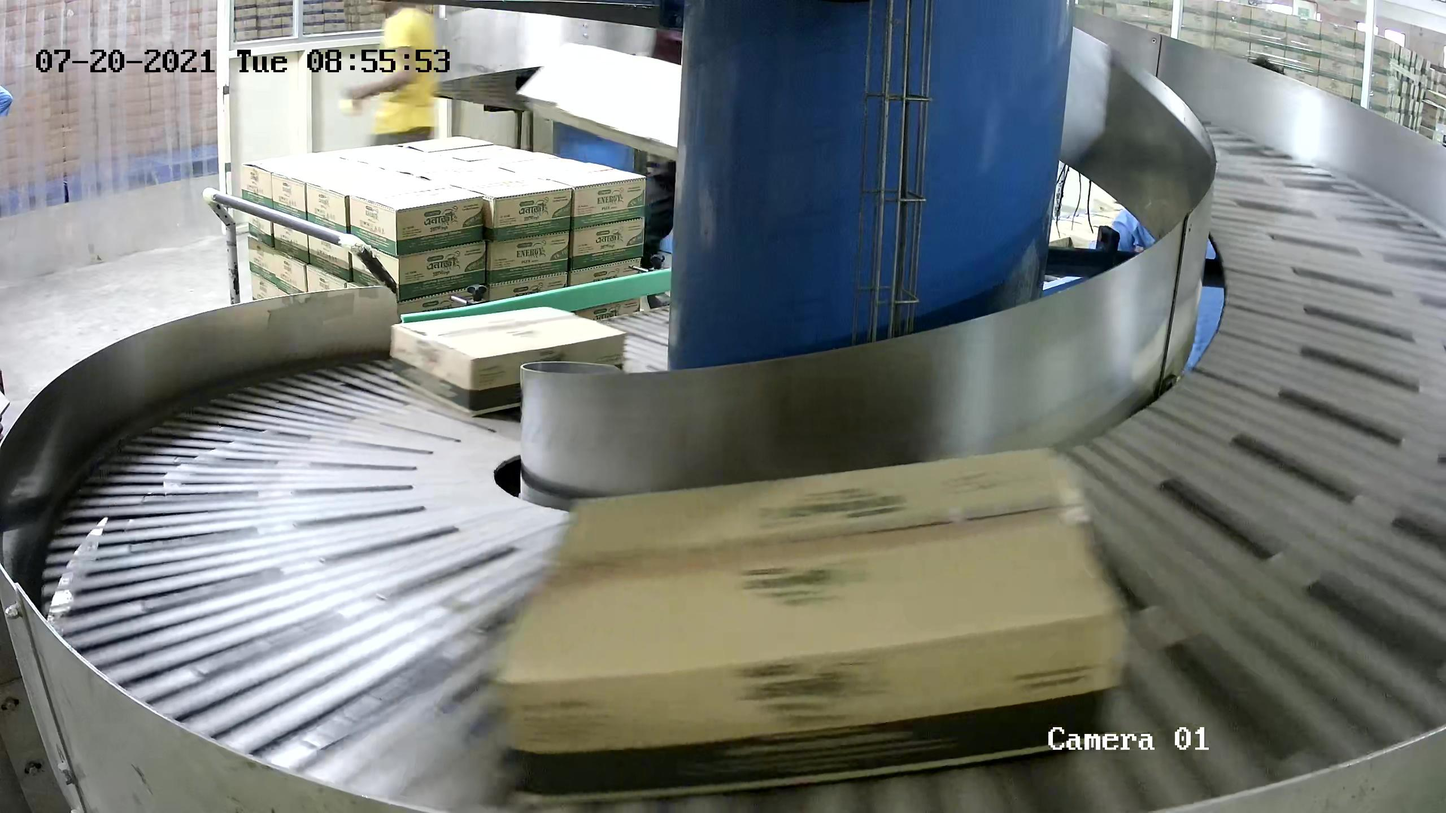Box: (490, 447, 1132, 810), (390, 305, 628, 418)
